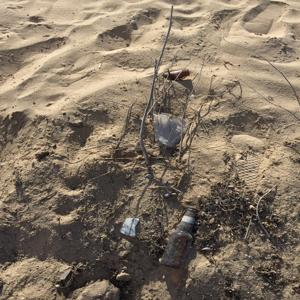glass: (155, 195, 218, 297)
plastic bottle: (145, 108, 193, 154), (119, 212, 141, 243)
